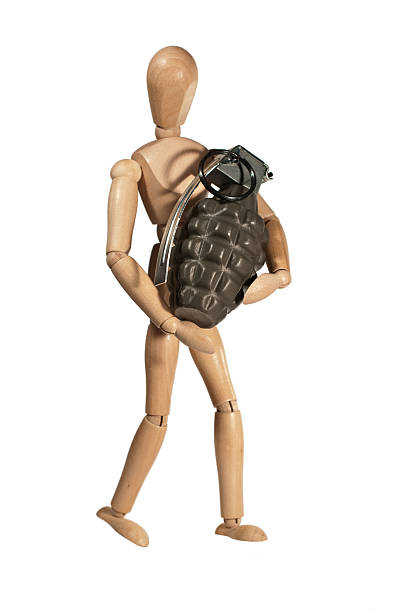e1: (155, 147, 271, 319)
